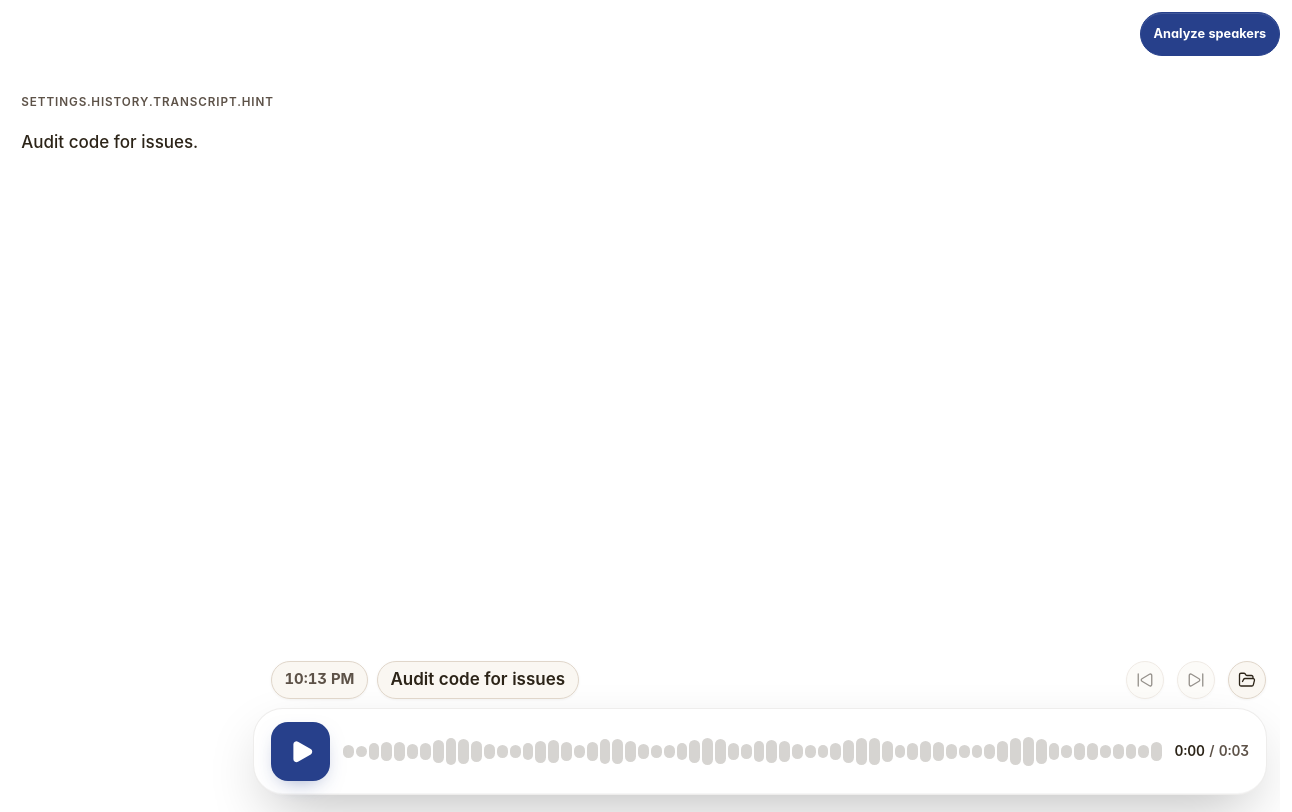
it: TranscriptView speaker analysis › shows analyzed speaker output in the single transcript surface
Click the button "Analyze speakers": coordinates (1210, 34) [1140,12,1280,56]
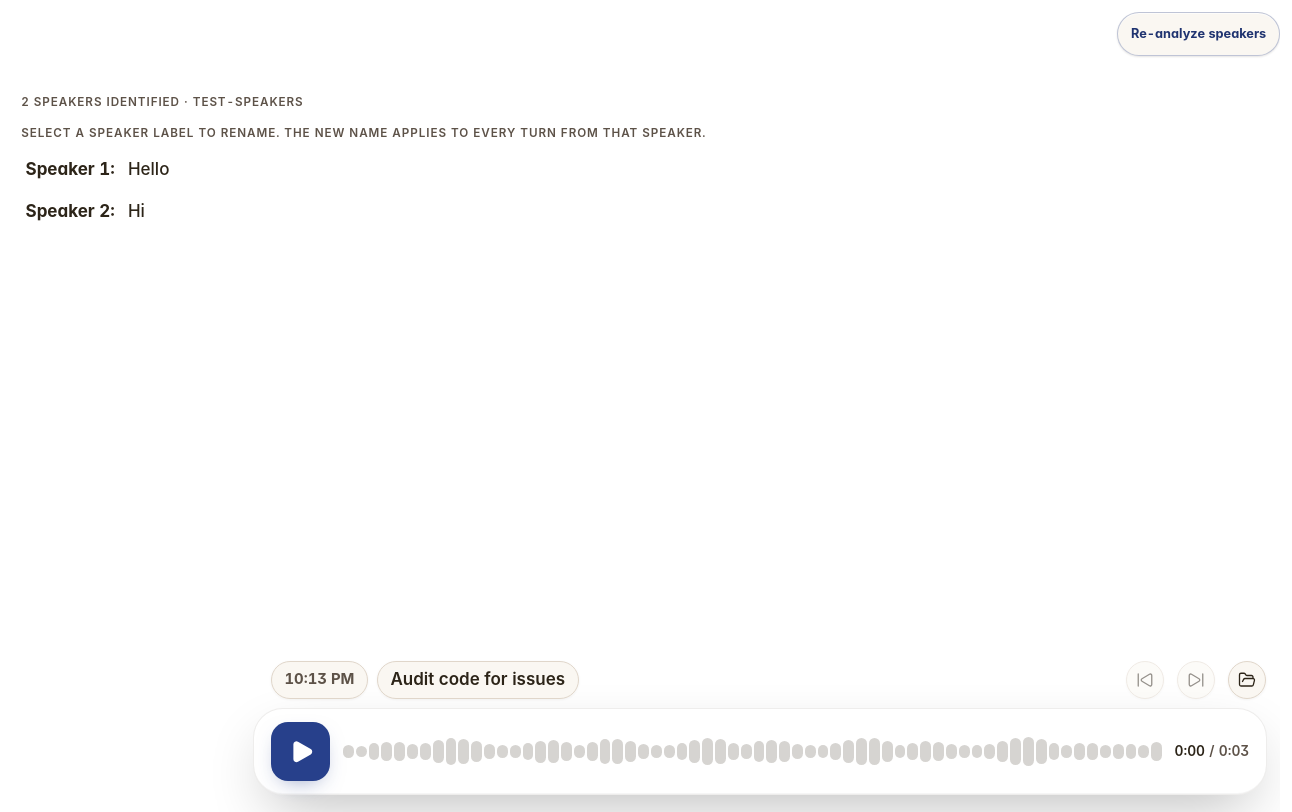
Now the text "Speaker 1: Hello" is shown, box [21,155,170,185]
Now the text "Re-analyze speakers" is shown, box [1117,12,1280,56]
Now the text "2 speakers identified" is shown, box [21,95,304,109]
